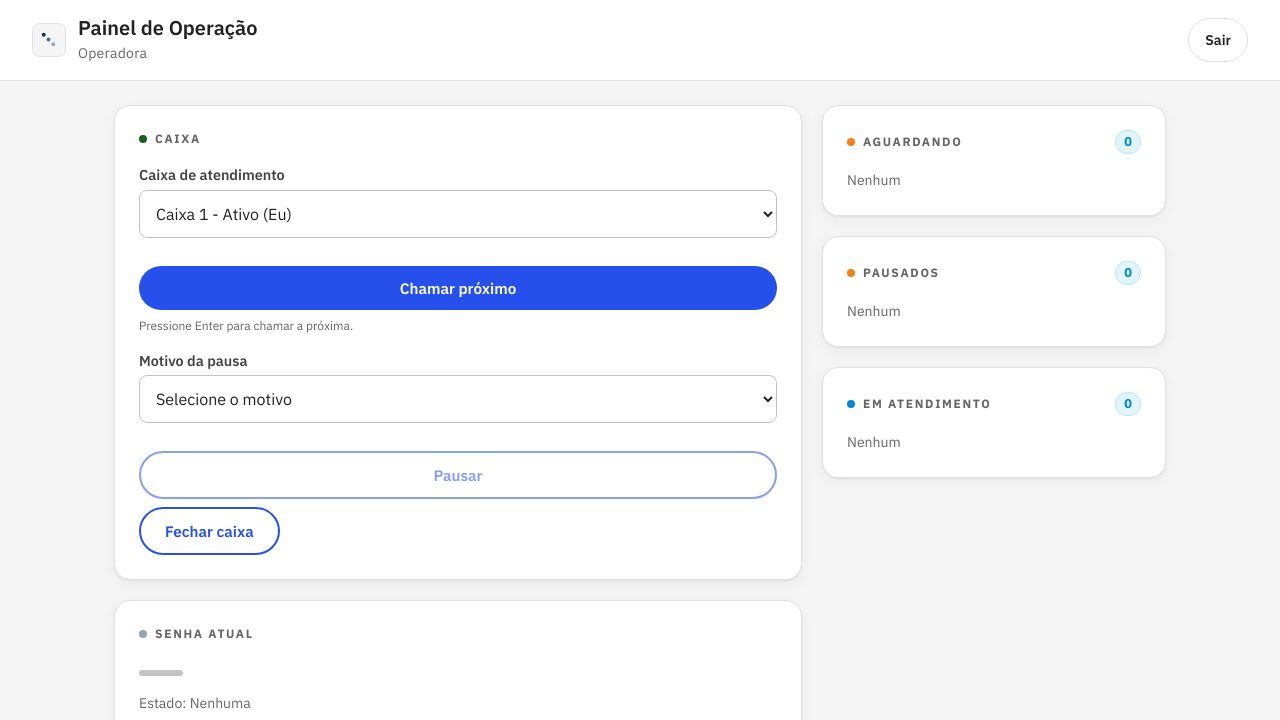
OperationPage flows › keeps the close-counter modal open and the counter selected when closing fails
This screenshot has width=1280, height=720.
Click the button "Fechar caixa".
click(209, 531)  # box [139, 507, 280, 555]
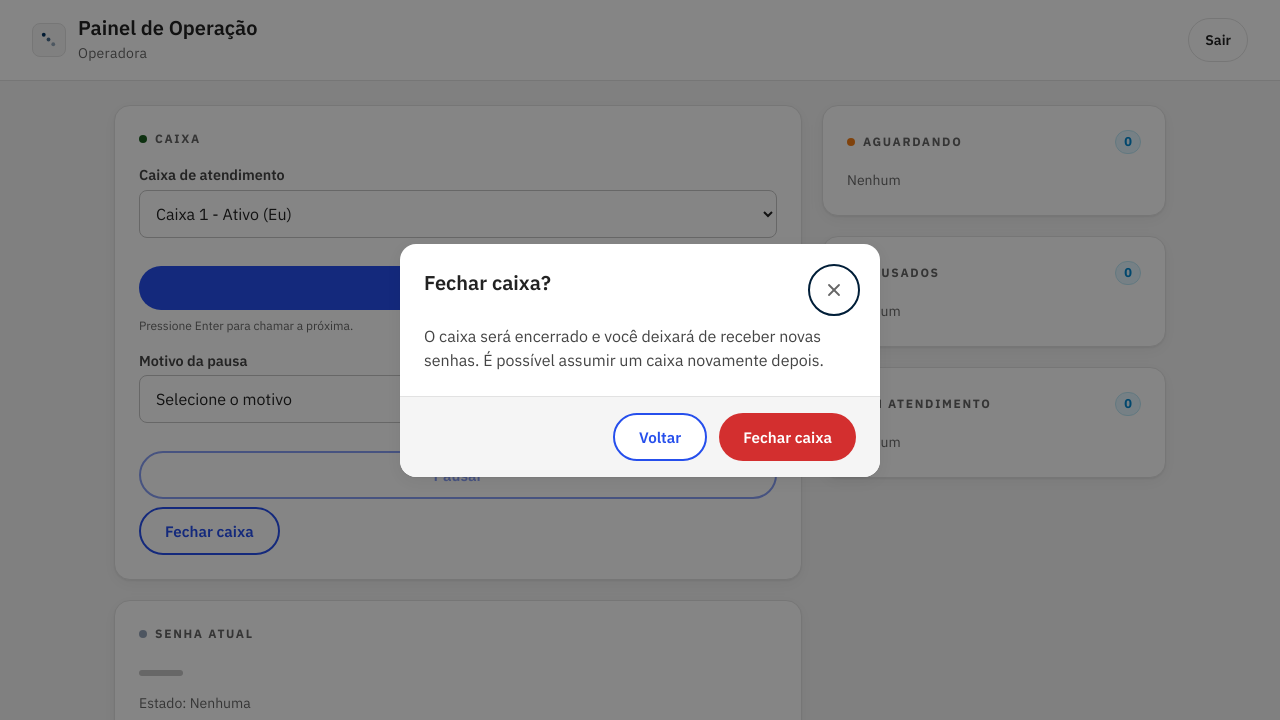
Click the button "Fechar caixa".
click(788, 436)  # box [719, 412, 856, 460]
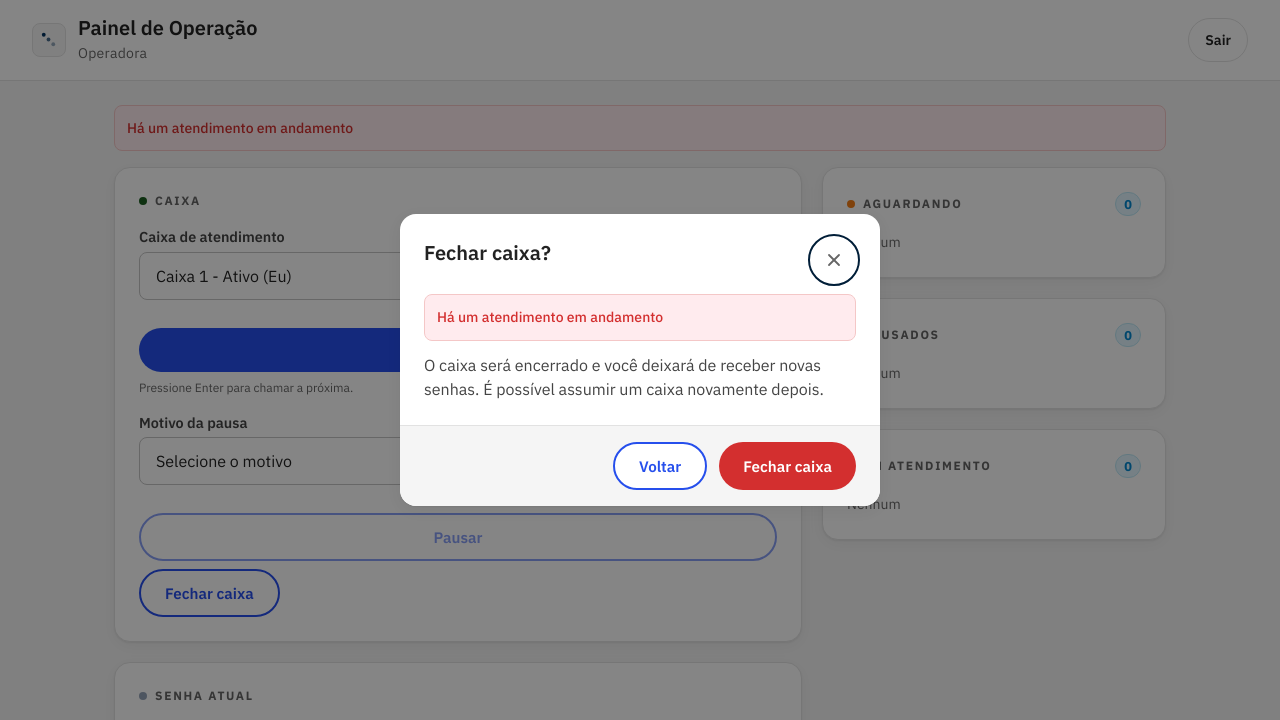
Expected: the dropdown labelled "Caixa de atendimento" shows "Caixa 1 - Ativo (Eu)", [139, 252, 777, 300]
Now the text "Há um atendimento em andamento" is shown, box [424, 294, 856, 341]
